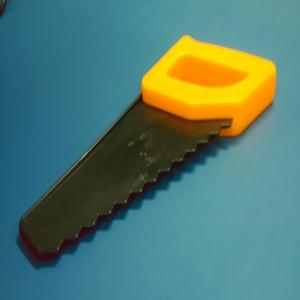serrote: (18, 35, 277, 261)
